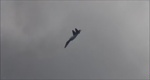maybay_muctieu: (63, 28, 81, 49)
